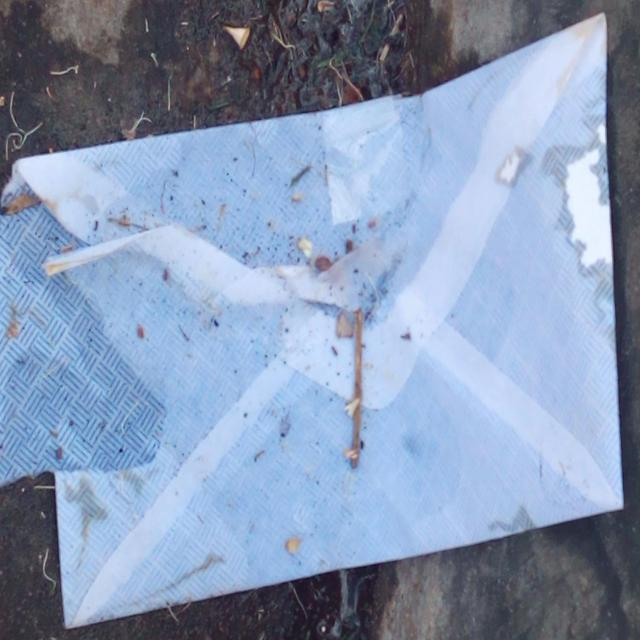litter: (0, 10, 621, 627)
